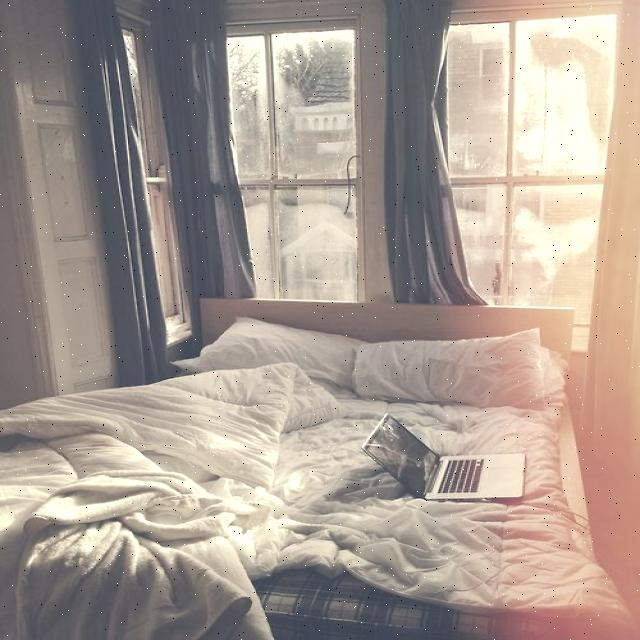bed: (0, 314, 569, 634)
